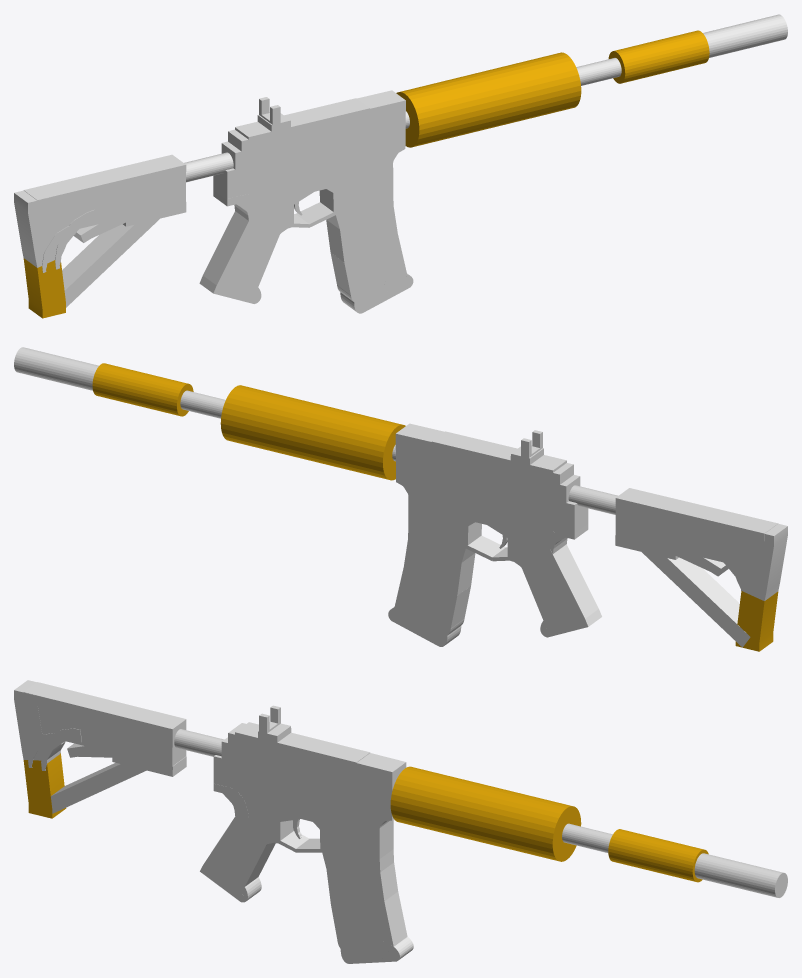
File: nerfar.fbx
3 renders of one model, top to bottom at view 1: azimuth 30°, elevation 25°; view 2: azimuth 150°, elevation 25°; view 3: azimuth 330°, elevation 25°, orthographic.
Parts seen in each view (by area): view 1: Cube, Cylinder.004, Cylinder.001, Cylinder; view 2: Cube, Cylinder.004, Cylinder.001, Cylinder; view 3: Cube, Cylinder.004, Cylinder.001, Cylinder.
Boxes of the visible parts, x1,y1,x2,y2 form: Cube: (199, 90, 413, 313); Cylinder.004: (14, 30, 709, 318); Cylinder.001: (703, 14, 787, 57); Cylinder: (184, 58, 621, 182); Cube: (388, 423, 601, 646); Cylinder.004: (92, 363, 787, 651); Cylinder.001: (14, 347, 98, 390); Cylinder: (180, 390, 618, 514); Cube: (200, 705, 413, 963); Cylinder.004: (14, 680, 708, 882); Cylinder.001: (694, 853, 787, 897); Cylinder: (174, 729, 612, 852).
Bounding box in the file's own units: 608 × 173 × 39.55.
